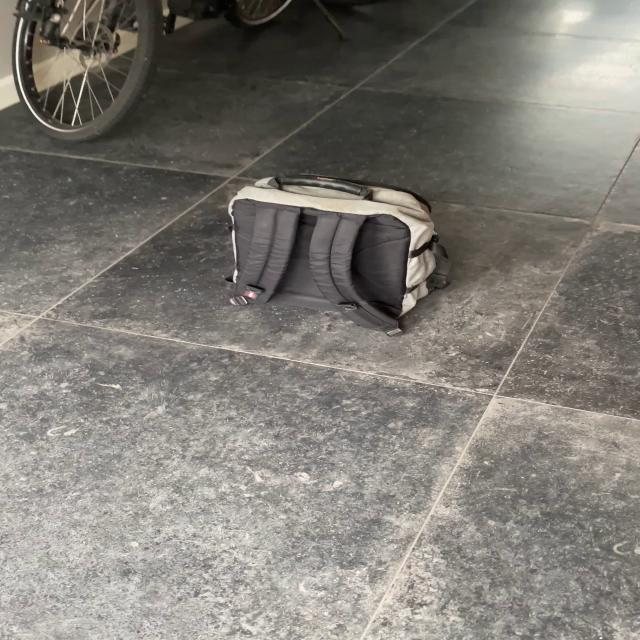backpack: (215, 166, 460, 334)
